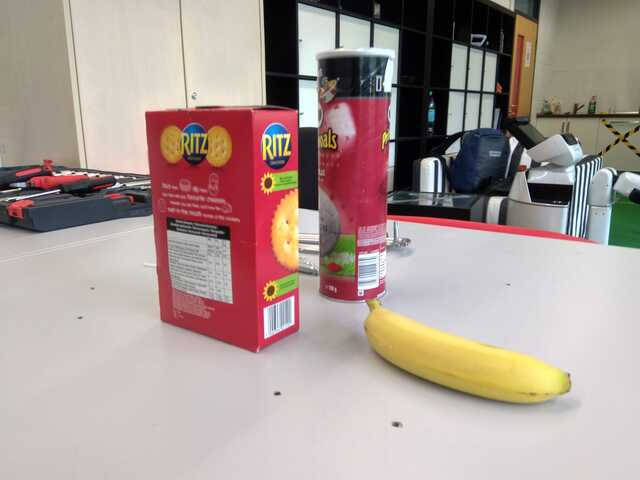001_chips_can: (315, 48, 396, 305)
003_cracker_box: (145, 105, 302, 354)
011_banana: (364, 298, 572, 403)
